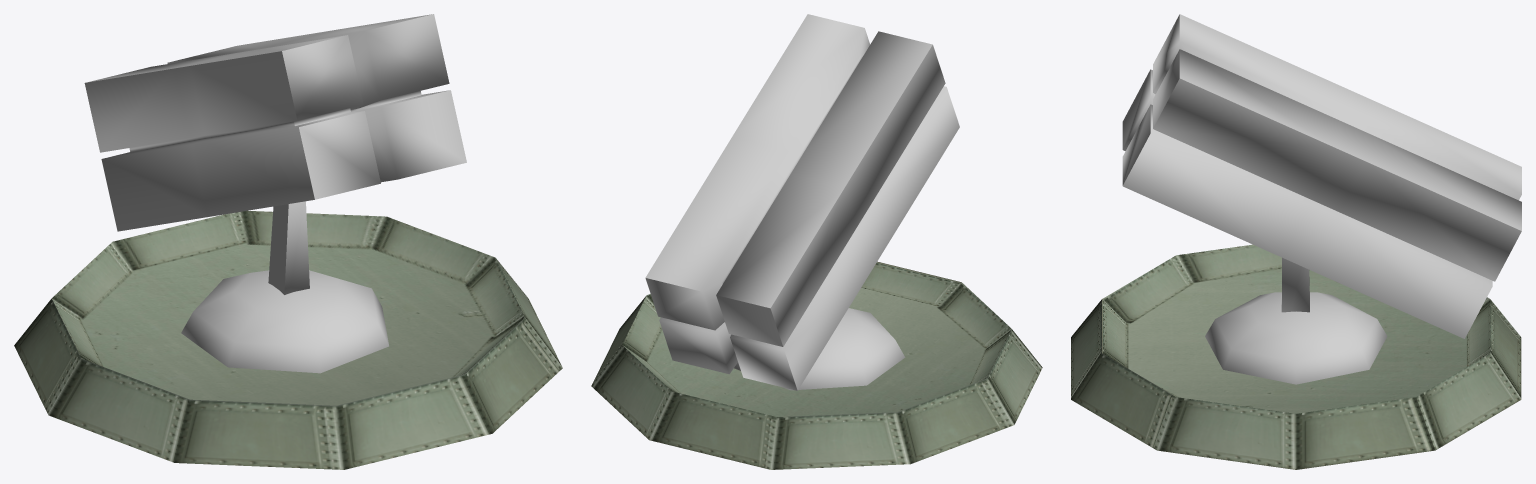
File: PatroitSystem2.fbx
3 views of the same model, side by side, from view 1: azimuth 30°, elevation 25°; view 2: azimuth 150°, elevation 25°; view 3: azimuth 270°, elevation 25° (orthographic). The views are drawn at different scales.
Visible parts, largest first — view 1: pCylinder1, polySurface1; view 2: polySurface1, pCylinder1; view 3: polySurface1, pCylinder1.
Part boxes in pixels (<box>): pCylinder1: <box>14,210,562,469</box>; polySurface1: <box>84,14,466,373</box>; polySurface1: <box>645,14,959,390</box>; pCylinder1: <box>591,261,1042,469</box>; polySurface1: <box>1122,14,1521,384</box>; pCylinder1: <box>1071,244,1521,469</box>.
Size of the model in its own units: 203 by 162 by 190.
